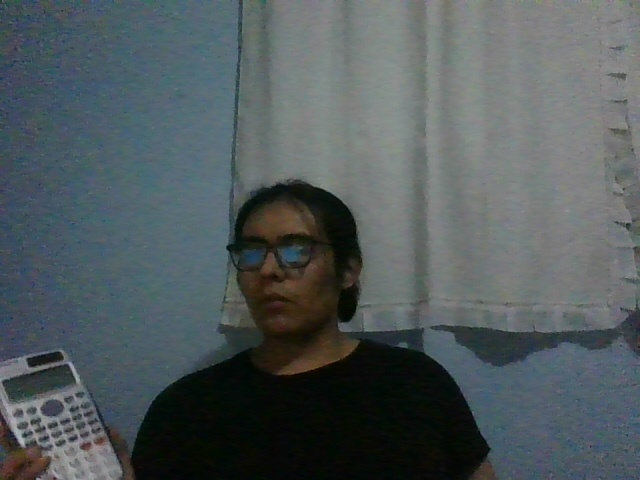calculadora: (1, 349, 124, 480)
